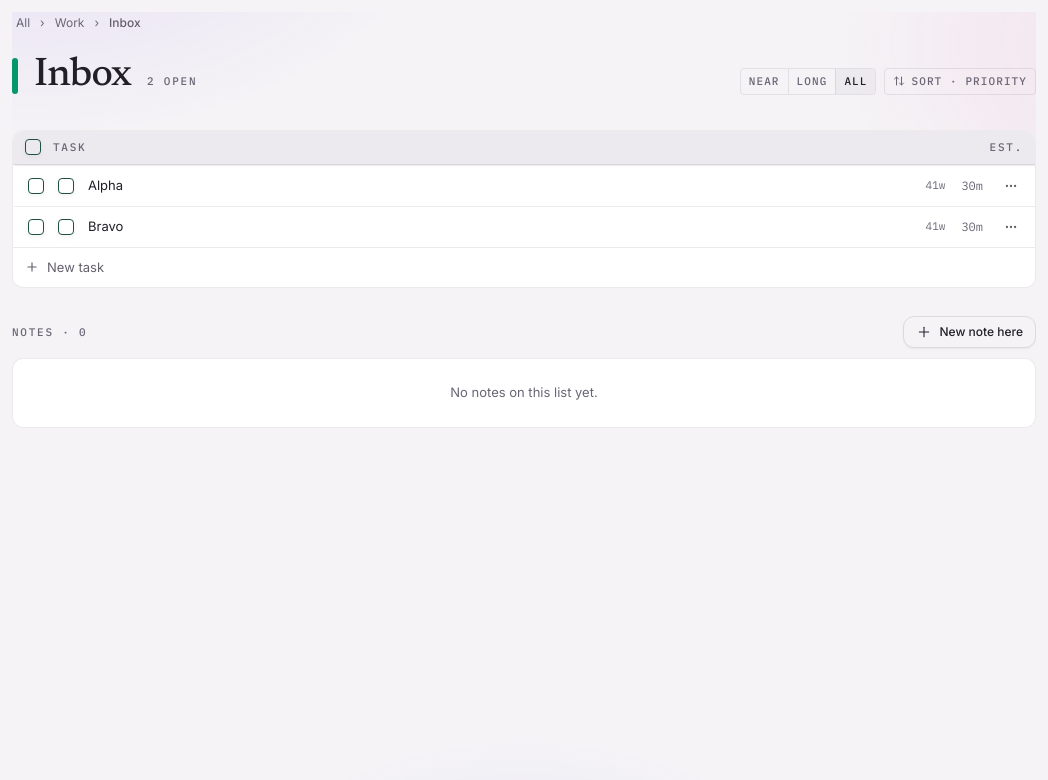
Test: SubcategoryView (chunk 31 re-skin) › Delete 2 removes both with no confirm; Undo restores both and nothing is deleted (chunk 72)
This screenshot has width=1048, height=780.
expect the heading "Inbox" is shown: met, box [34,46,131,106]
Step 1. Click the checkbox named "select all tasks" → (33, 147), box [25,139,41,155]
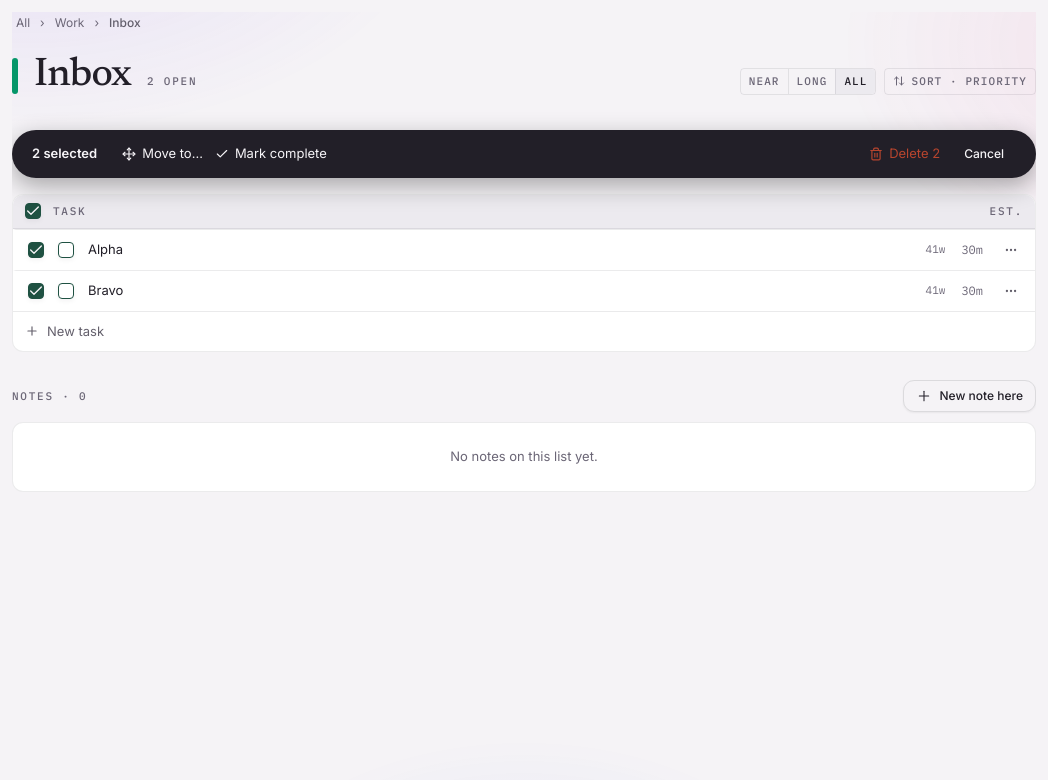
Step 2. Click the button "Delete 2" → (905, 154), box [869,144,940,164]
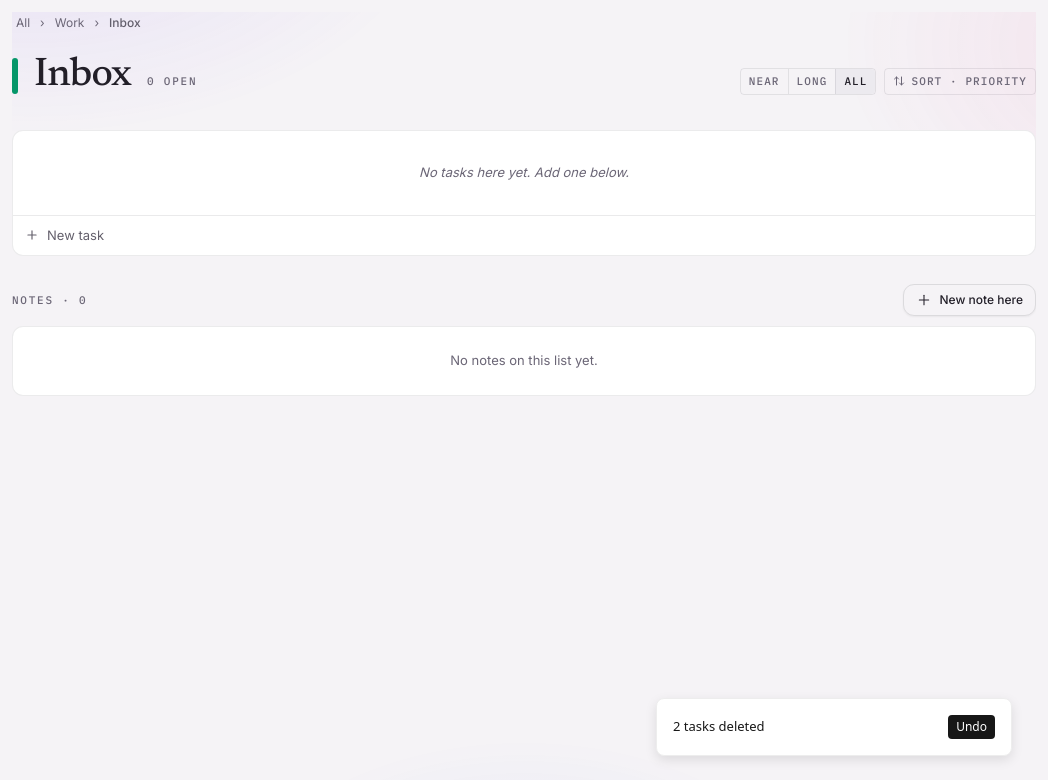
expect the button "Alpha" is gone: met
expect the button "Bravo" is gone: met
expect the text "2 tasks deleted" is shown: met, box [673,717,765,737]
Step 3. Click the button "Undo" → (972, 727), box [948,715,995,739]
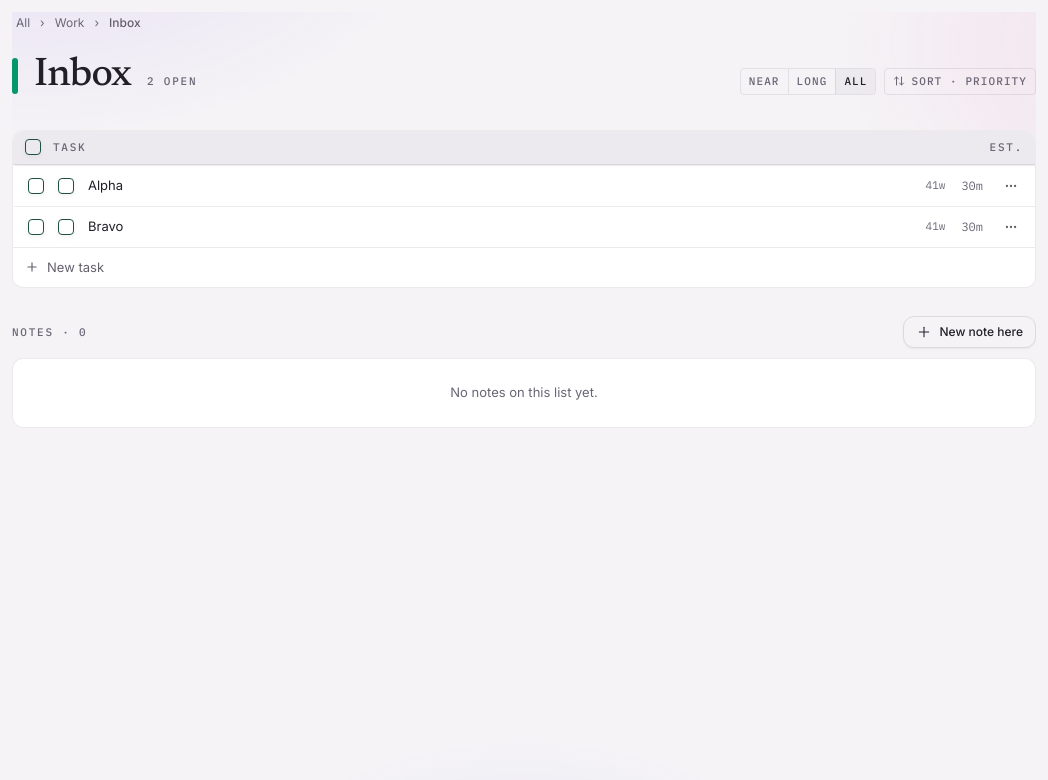
expect the text "Alpha" is shown: met, box [88,177,123,193]
expect the text "Bravo" is shown: met, box [88,218,123,234]
